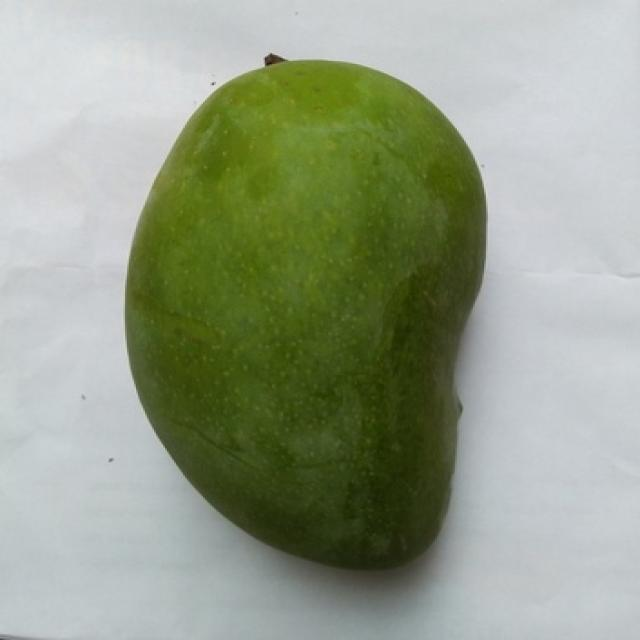Mango: (125, 61, 484, 569)
